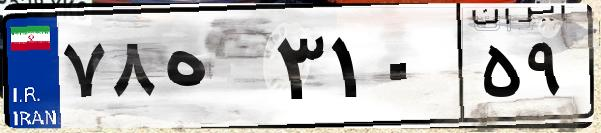0: (385, 28, 445, 110)
1: (330, 28, 385, 110)
3: (270, 28, 330, 110)
5: (475, 38, 525, 113)
7: (57, 26, 110, 100)
8: (110, 28, 158, 98)
9: (525, 38, 570, 115)
ه: (158, 20, 270, 120)
